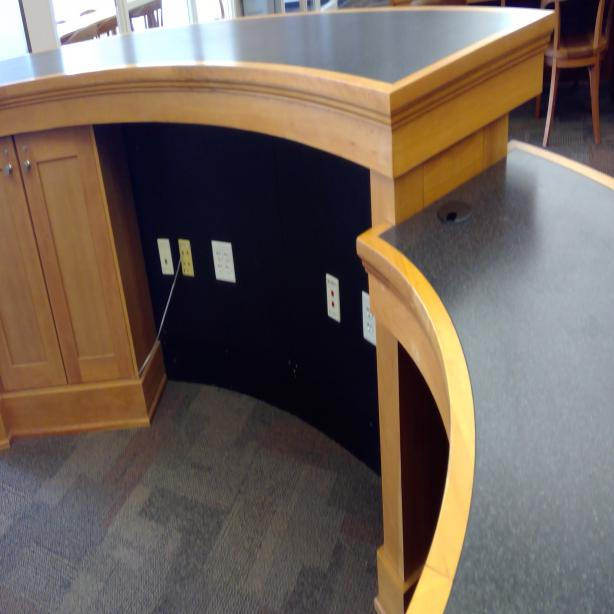typeb: (216, 249, 221, 263), (224, 250, 229, 262), (367, 322, 372, 334), (226, 265, 230, 275), (218, 264, 222, 272)
